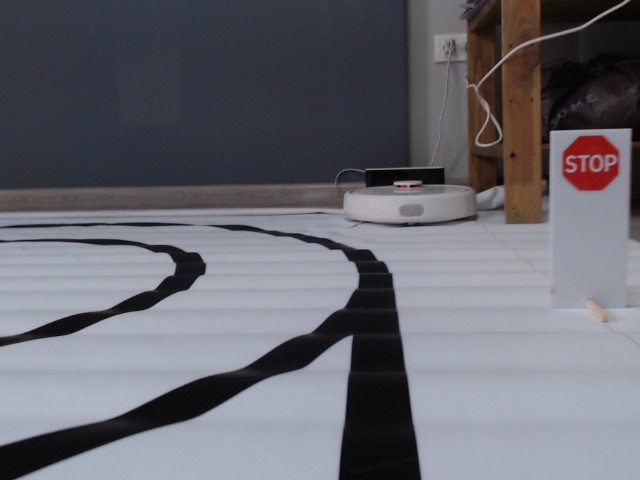Stop: (560, 134, 621, 192)
